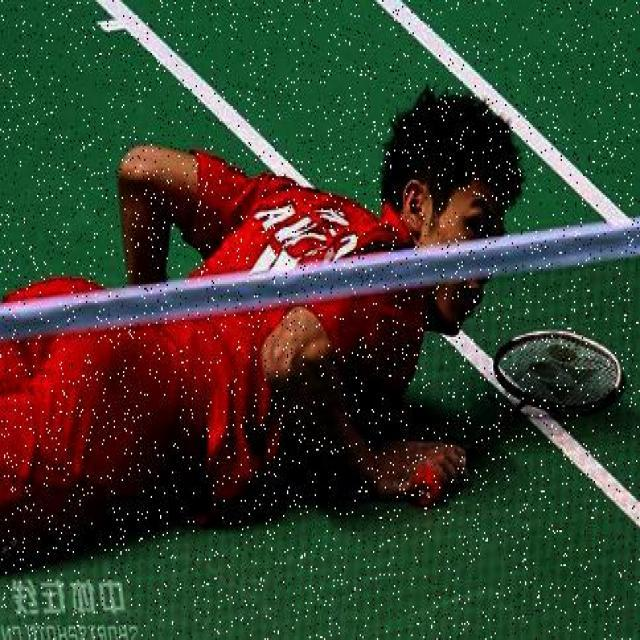fall: (8, 110, 522, 553)
